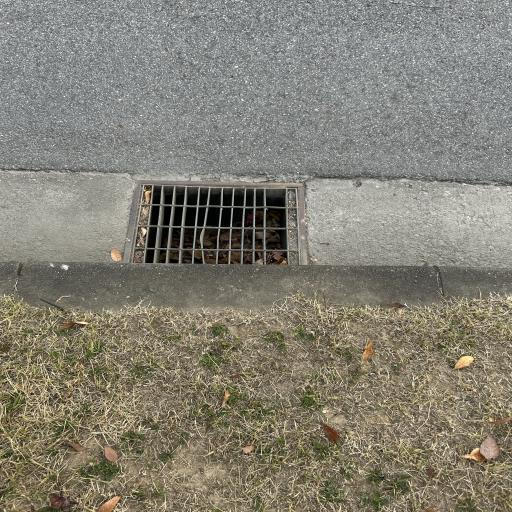debris: (267, 211, 284, 227), (267, 231, 281, 249), (204, 230, 218, 248), (267, 252, 286, 264), (136, 227, 146, 248), (231, 230, 242, 249), (170, 229, 180, 249), (220, 230, 230, 249), (142, 186, 152, 204), (140, 206, 149, 225), (244, 230, 253, 249), (184, 230, 194, 247), (204, 251, 217, 263), (256, 230, 264, 248), (230, 252, 241, 263), (256, 211, 264, 226), (246, 211, 254, 225), (168, 251, 178, 262), (219, 251, 228, 263), (135, 250, 143, 262), (256, 252, 264, 263), (244, 252, 252, 263), (183, 251, 191, 262), (195, 251, 202, 261), (159, 251, 166, 261)
drain: (122, 180, 308, 265)
